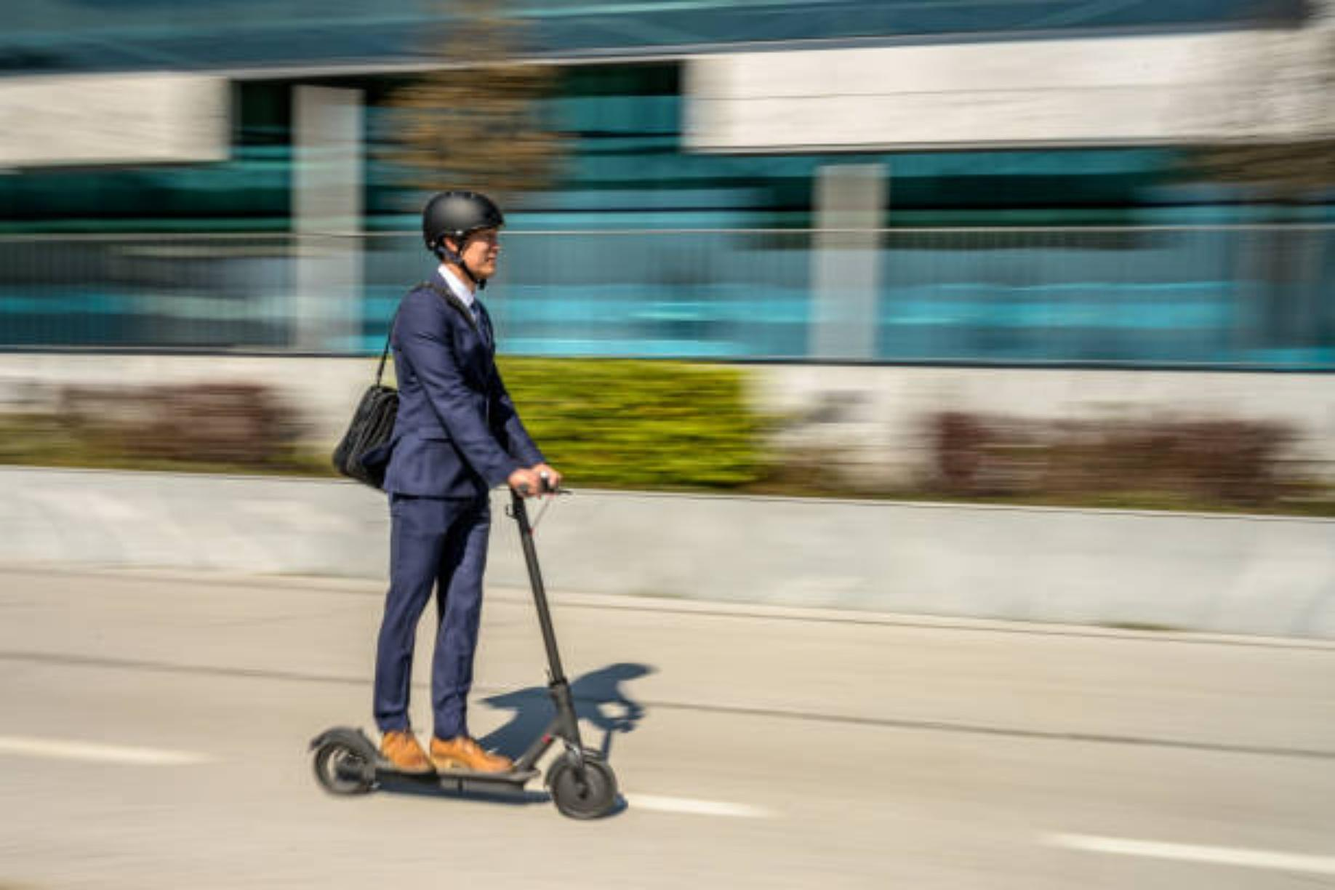helmet: (391, 173, 525, 294)
human: (381, 187, 529, 767)
kickboard: (306, 709, 622, 821)
